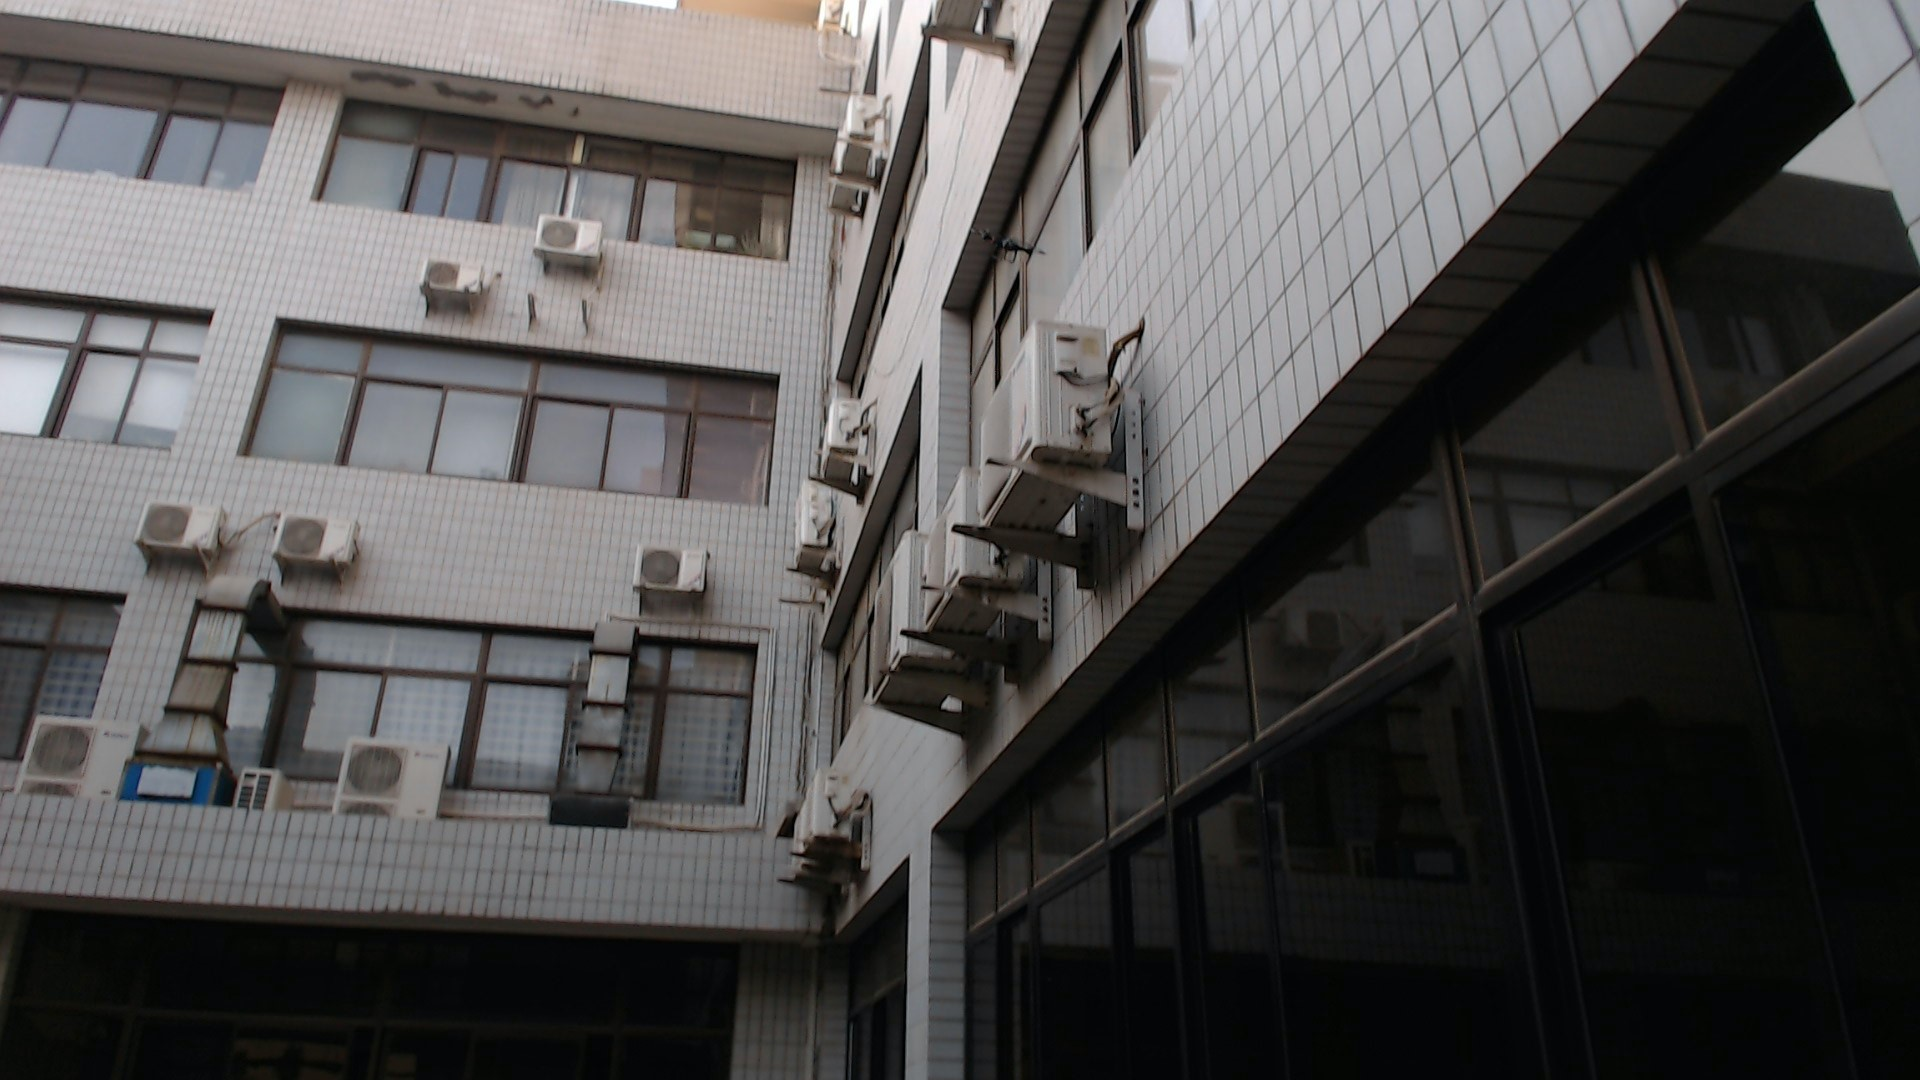drone: (967, 224, 1047, 266)
